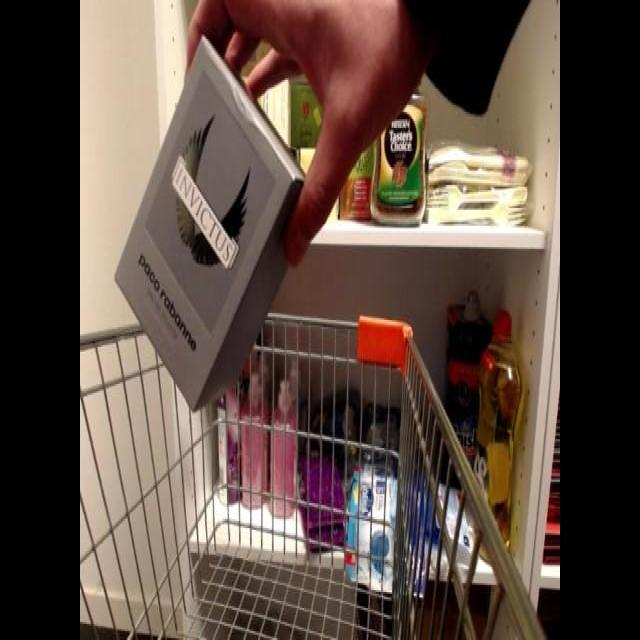Paco Rabanne: (112, 19, 332, 413)
